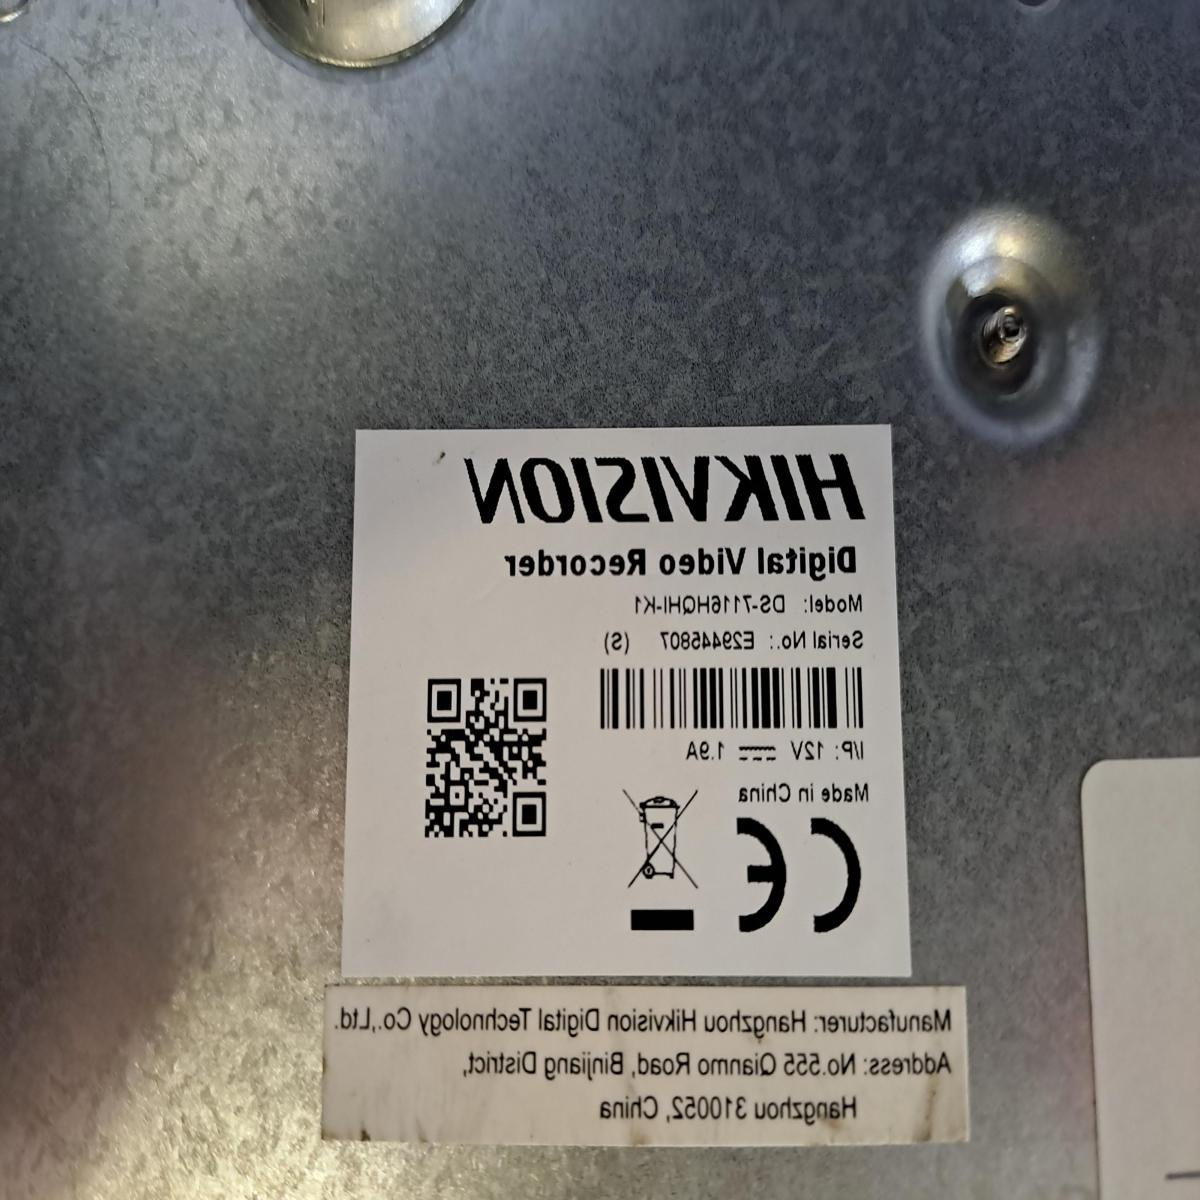Barcode: (582, 652, 873, 746)
Label: (344, 430, 911, 973)
